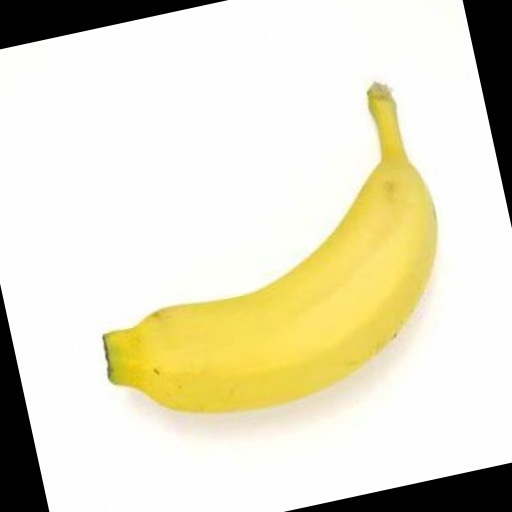fruit: (23, 197, 204, 512)
